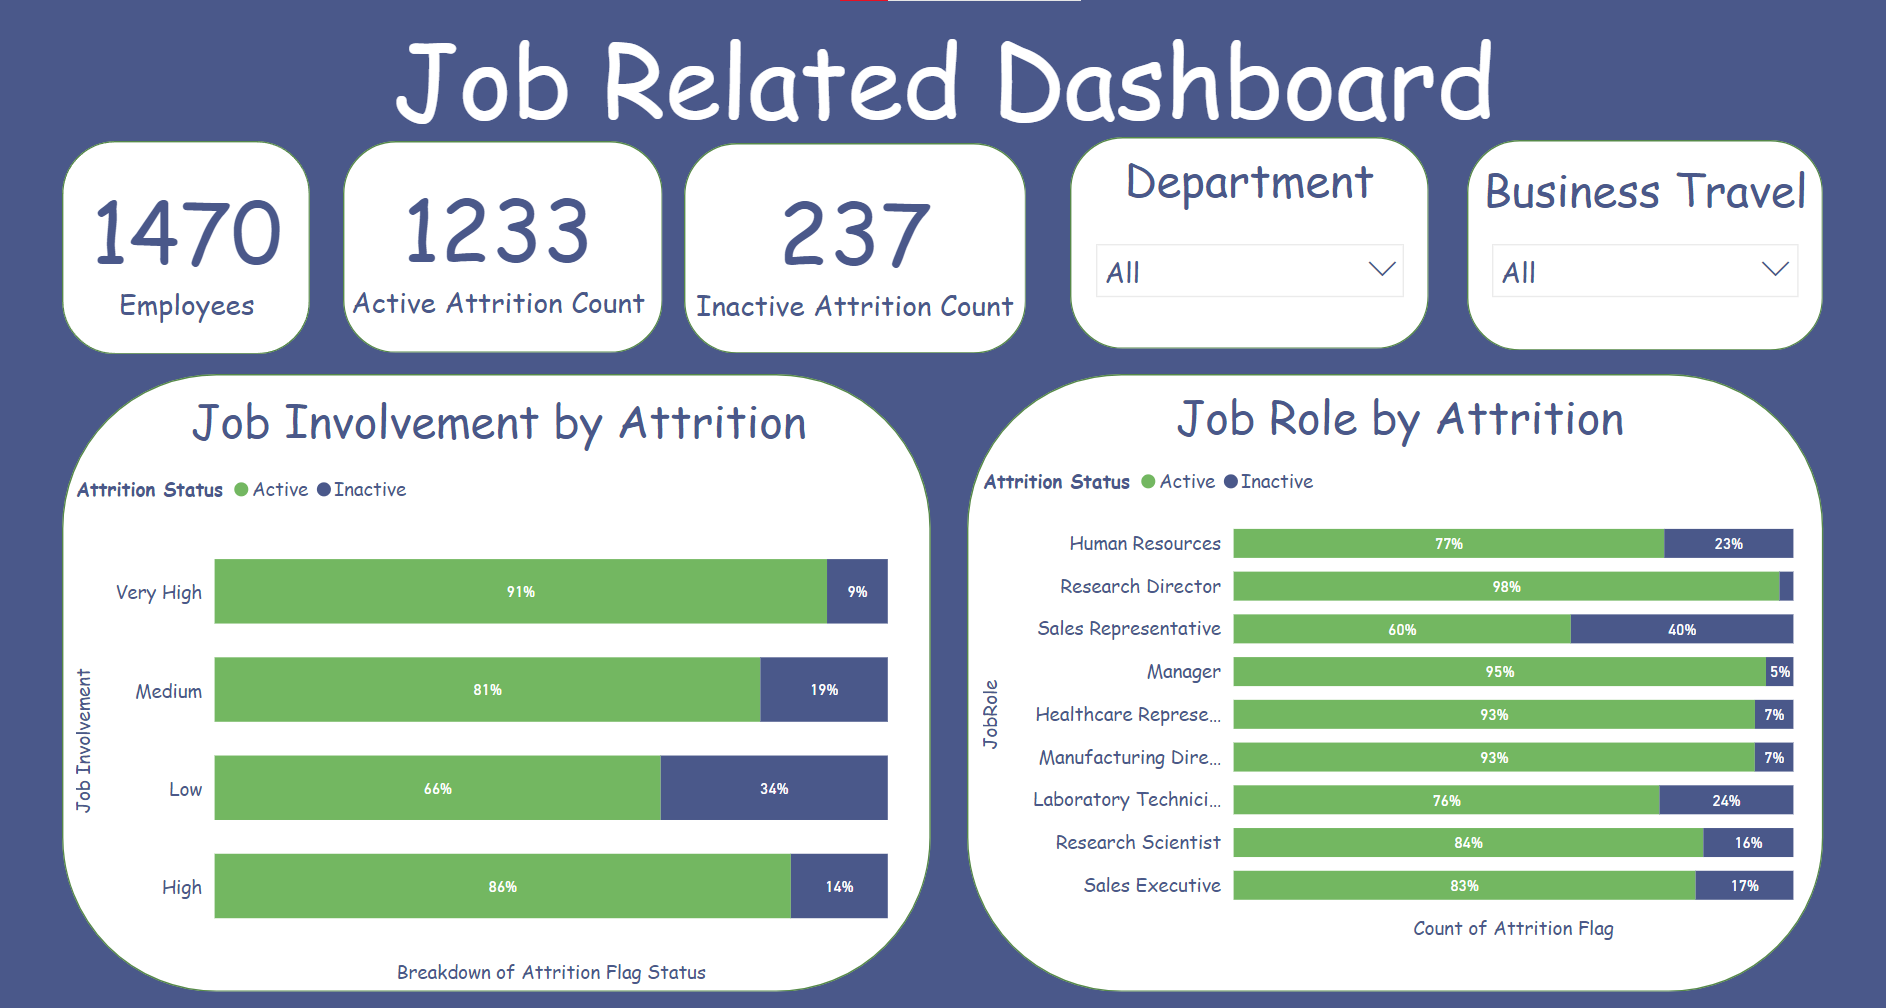

Layout of this report page (visuals, bound fields, positions):
{"tool":"powerbi","page":{"name":"Job Related Dashboard","canvas":[1280,720],"ordinal":2},"visuals":[{"type":"textbox","box":[0,0,1279.7,115.8],"z":0},{"type":"shape","box":[9.9,100.9,177.2,152.4],"z":0,"group":"g4"},{"type":"group","id":"g1","title":"Group 1","box":[9.9,267.2,620.5,441.4],"z":0,"group":"g7"},{"type":"group","id":"g2","title":"Group 1","box":[656.2,267.2,611.6,441.4],"z":0,"group":"g3"},{"type":"group","id":"g3","title":"Group 2","box":[656.2,267.2,611.6,441.4],"z":1000},{"type":"textbox","box":[714.4,270,500.8,56.4],"z":1000,"group":"g3"},{"type":"textbox","box":[67.4,272.9,507.7,56.4],"z":1000,"group":"g7"},{"type":"group","id":"g4","title":"Group 3","box":[9.9,100.9,177.2,152.4],"z":2000},{"type":"group","id":"g5","title":"Group 4","box":[200.9,100.9,241.5,151.4],"z":3000},{"type":"card","fields":{"Values":["CountNonNull(Demographic_Data.EmployeeID)"]},"box":[14.8,106.8,168.2,140.5],"z":3500,"group":"g4"},{"type":"group","id":"g6","title":"Group 5","box":[452.3,101.9,248.4,150.4],"z":4000},{"type":"group","id":"g7","title":"Group 2","box":[9.9,267.2,620.5,441.4],"z":4000,"group":"g10"},{"type":"group","id":"g8","title":"Group 12","box":[1013.4,100,254.4,150.4],"z":5000},{"type":"group","id":"g9","title":"Group 14","box":[730,98,256.3,151.4],"z":6000},{"type":"shape","box":[9.9,267.2,620.5,441.4],"z":6500,"group":"g1"},{"type":"shape","box":[656.2,267.2,611.6,441.4],"z":6500,"group":"g2"},{"type":"slicer","fields":{"Values":["Job_Data.Department"]},"box":[738.3,164.3,240.5,60.4],"z":7000},{"type":"slicer","fields":{"Values":["Job_Data.BusinessTravel"]},"box":[1021.4,164.3,238.5,62.4],"z":8000},{"type":"shape","box":[454.4,101.9,244.5,150.4],"z":8500,"group":"g6"},{"type":"card","fields":{"Values":["Attrition_Data.Inactive Attrition Count"]},"box":[452.3,101.9,248.4,150.4],"z":9000,"group":"g6"},{"type":"group","id":"g10","title":"Group 6","box":[9.9,267.2,620.5,441.4],"z":9000},{"type":"hundredPercentStackedBarChart","fields":{"Category":["Job_Data.JobRole"],"Y":["CountNonNull(Attrition_Data.AttritionFlag)"],"Series":["Attrition_Data.AttritionFlag"]},"box":[663.1,323.6,588.9,353.3],"z":10000},{"type":"shape","box":[210.7,100.9,228.5,151.4],"z":10002,"group":"g5"},{"type":"card","fields":{"Values":["Attrition_Data.Active Attrition Count"]},"box":[200.9,100.9,241.5,149.4],"z":10502,"group":"g5"},{"type":"shape","box":[730,98,256.3,151.4],"z":11000,"group":"g11"},{"type":"shape","box":[1013.4,100,254.4,150.4],"z":11000,"group":"g13"},{"type":"group","id":"g11","title":"Group 10","box":[730,98,256.3,151.4],"z":13000,"group":"g9"},{"type":"textbox","box":[737.9,100.9,240.5,71.3],"z":13000,"group":"g11"},{"type":"textbox","box":[1014,108,253.4,63.3],"z":13500,"group":"g13"},{"type":"group","id":"g12","title":"Group 13","box":[1013.4,100,254.4,150.4],"z":13503,"group":"g8"},{"type":"hundredPercentStackedBarChart","fields":{"Category":["Job_Data.JobInvolvement"],"Y":["CountNonNull(Attrition_Data.AttritionFlag)"],"Series":["Attrition_Data.AttritionFlag"]},"box":[15,329.3,589.9,379.1],"z":14006,"group":"g10"},{"type":"group","id":"g13","title":"Group 11","box":[1013.4,100,254.4,150.4],"z":14501,"group":"g12"}]}

Visuals, with their boxes on the page's 1280x720 design canvas (x1, y1, x2, y2). These are canvas units, not pixel positions in the 1886x1008 screenshot, which may show the page scaled, cropped or inside an application window:
textbox: 0, 0, 1280, 116
shape: 10, 101, 187, 253
"Group 1" group: 10, 267, 630, 709
"Group 1" group: 656, 267, 1268, 709
"Group 2" group: 656, 267, 1268, 709
textbox: 714, 270, 1215, 326
textbox: 67, 273, 575, 329
"Group 3" group: 10, 101, 187, 253
"Group 4" group: 201, 101, 442, 252
card - CountNonNull(Demographic_Data.EmployeeID): 15, 107, 183, 247
"Group 5" group: 452, 102, 701, 252
"Group 2" group: 10, 267, 630, 709
"Group 12" group: 1013, 100, 1268, 250
"Group 14" group: 730, 98, 986, 249
shape: 10, 267, 630, 709
shape: 656, 267, 1268, 709
slicer - Job_Data.Department: 738, 164, 979, 225
slicer - Job_Data.BusinessTravel: 1021, 164, 1260, 227
shape: 454, 102, 699, 252
card - Attrition_Data.Inactive Attrition Count: 452, 102, 701, 252
"Group 6" group: 10, 267, 630, 709
hundredPercentStackedBarChart - Job_Data.JobRole x CountNonNull(Attrition_Data.AttritionFlag): 663, 324, 1252, 677
shape: 211, 101, 439, 252
card - Attrition_Data.Active Attrition Count: 201, 101, 442, 250
shape: 730, 98, 986, 249
shape: 1013, 100, 1268, 250
"Group 10" group: 730, 98, 986, 249
textbox: 738, 101, 978, 172
textbox: 1014, 108, 1267, 171
"Group 13" group: 1013, 100, 1268, 250
hundredPercentStackedBarChart - Job_Data.JobInvolvement x CountNonNull(Attrition_Data.AttritionFlag): 15, 329, 605, 708
"Group 11" group: 1013, 100, 1268, 250
